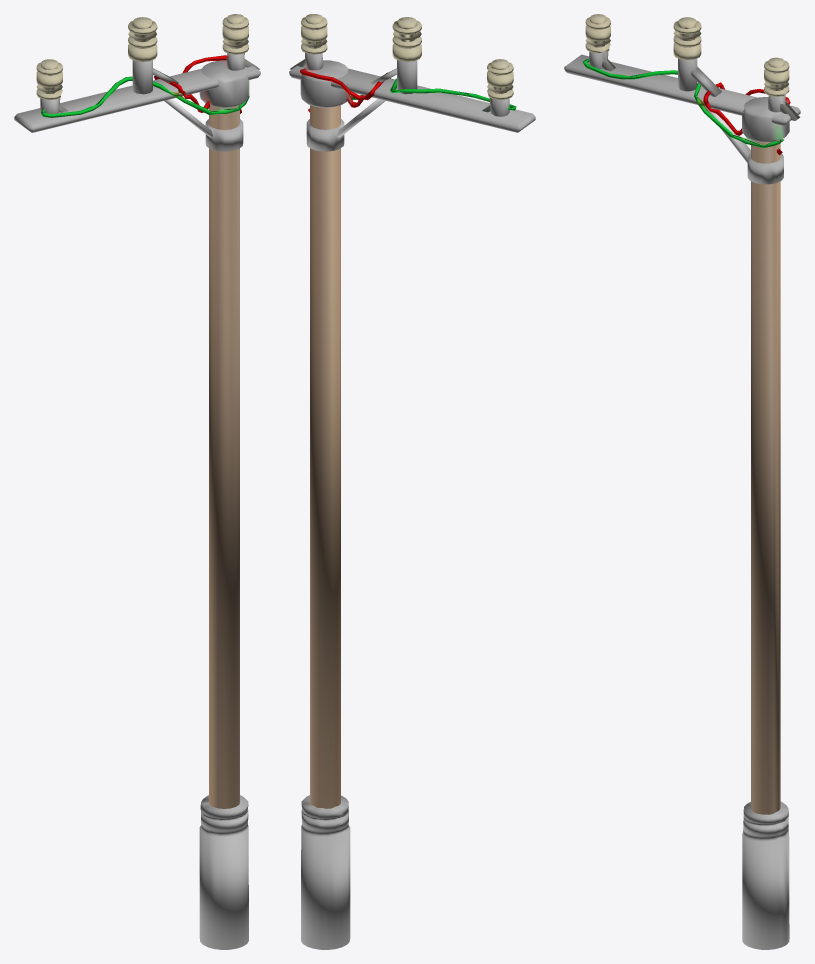
Rendered from small-electric-pole.glb.
3 views of the same model, side by side, from view 1: azimuth 30°, elevation 25°; view 2: azimuth 150°, elevation 25°; view 3: azimuth 330°, elevation 25° (orthographic). The views are drawn at different scales.
Parts seen in each view (by area): view 1: modelo; view 2: modelo; view 3: modelo.
Boxes of the visible parts, x1,y1,x2,y2 form: modelo: (14, 14, 260, 949); modelo: (289, 14, 535, 949); modelo: (564, 14, 800, 949).
Bounding box in the file's own units: 2.17 × 8.23 × 0.416.
